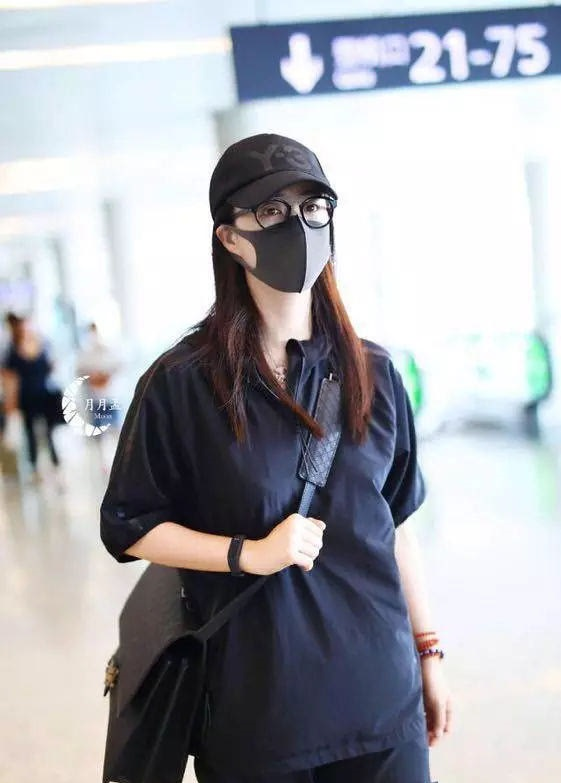face_mask: (246, 168, 326, 292)
